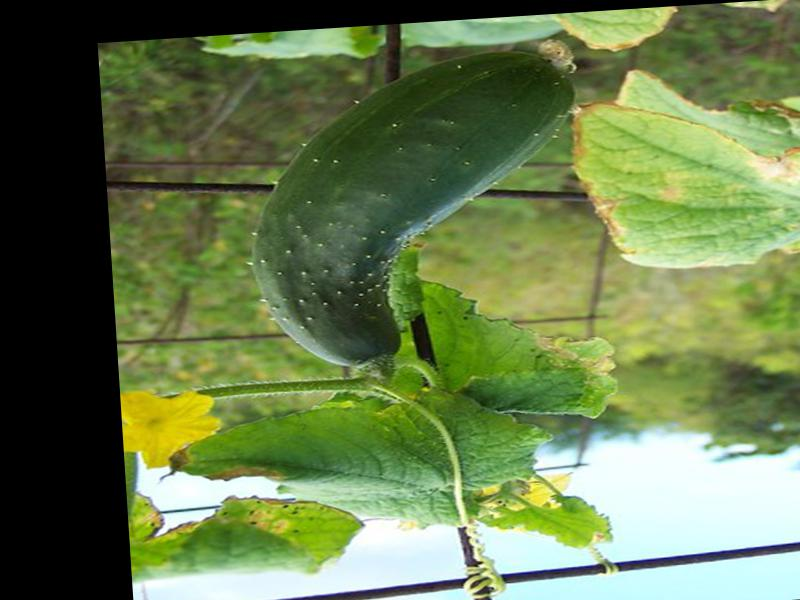Cucumber: (243, 45, 595, 375)
